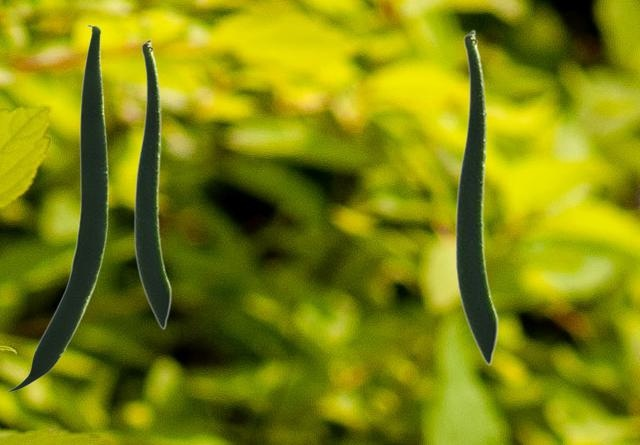french_bean: (6, 24, 107, 391), (454, 29, 498, 365), (133, 38, 171, 329)
